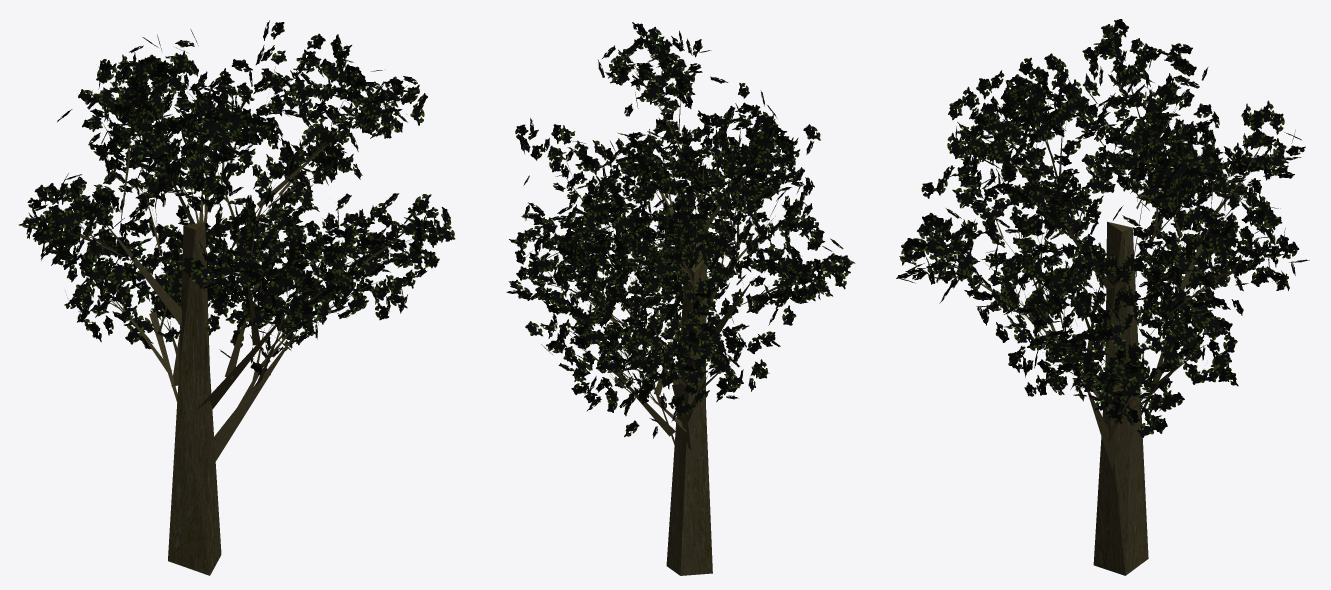
File: broadleaf_giant_v02_LOD2.fbx
The picture shows the model from 3 angles, left to right: view 1: azimuth 30°, elevation 25°; view 2: azimuth 150°, elevation 25°; view 3: azimuth 270°, elevation 25°; orthographic projection. The views are drawn at different scales.
Visible parts, largest first — view 1: broadleaf_giant_v02_LOD2; view 2: broadleaf_giant_v02_LOD2; view 3: broadleaf_giant_v02_LOD2.
Boxes of the visible parts, bbox=[...] form: broadleaf_giant_v02_LOD2: bbox=[18, 20, 455, 575]; broadleaf_giant_v02_LOD2: bbox=[506, 22, 855, 575]; broadleaf_giant_v02_LOD2: bbox=[896, 19, 1309, 575].
Bounding box in the file's own units: 3060 × 2794 × 3868.
2 materials, 2 textured.
